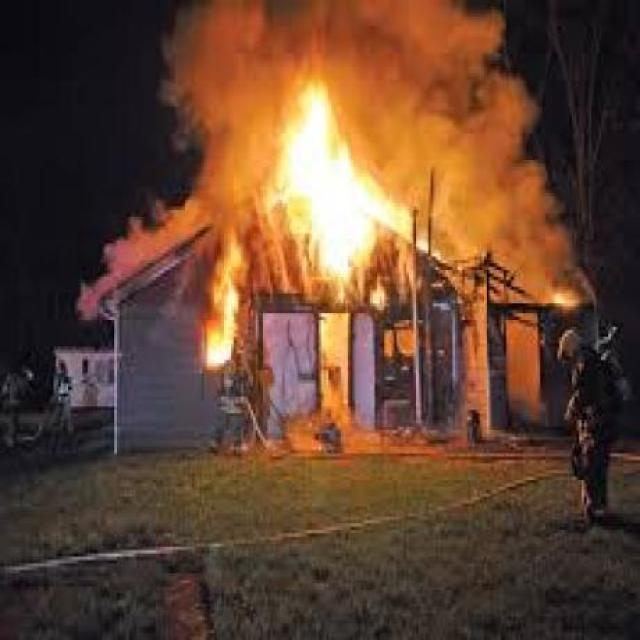Fire: (256, 71, 422, 320), (201, 235, 246, 379)
Smoke: (418, 52, 602, 320), (144, 4, 536, 72), (146, 54, 250, 236), (340, 39, 452, 163), (75, 174, 165, 318)
